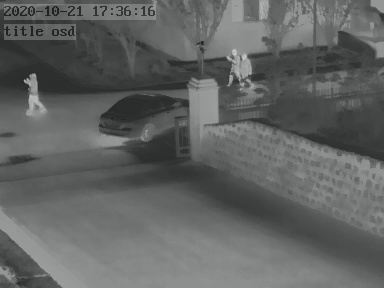person: (24, 70, 43, 112), (241, 52, 256, 90), (229, 49, 242, 87)
vehicle: (98, 90, 185, 140)
